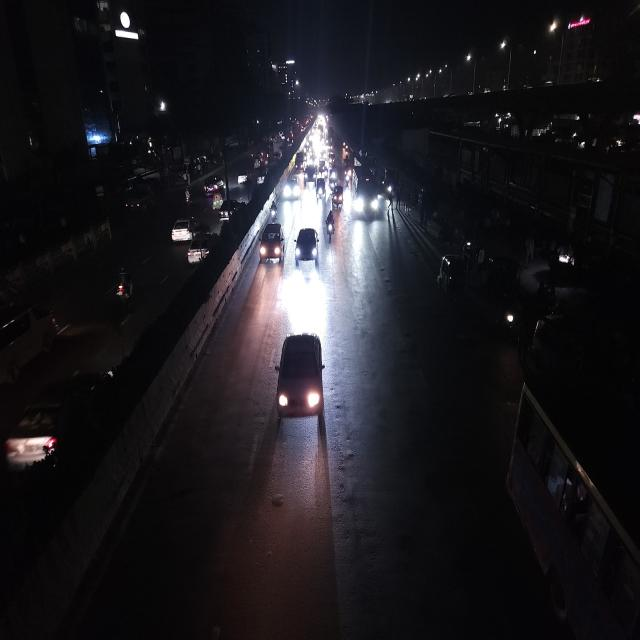bus: (506, 373, 640, 640), (350, 158, 383, 224)
car: (1, 361, 117, 490), (0, 298, 56, 400), (273, 327, 328, 428), (293, 222, 321, 273), (258, 219, 286, 268), (186, 230, 214, 268), (170, 214, 198, 245), (219, 196, 241, 223), (203, 173, 225, 196), (284, 174, 300, 202), (236, 169, 252, 189), (256, 170, 266, 187)
cng: (436, 247, 467, 302), (330, 182, 344, 212), (314, 175, 328, 202)
motorcycle: (112, 264, 136, 311), (324, 210, 336, 244), (180, 184, 192, 207), (269, 201, 279, 222)
pedestrian: (386, 190, 394, 212), (395, 188, 401, 212)
